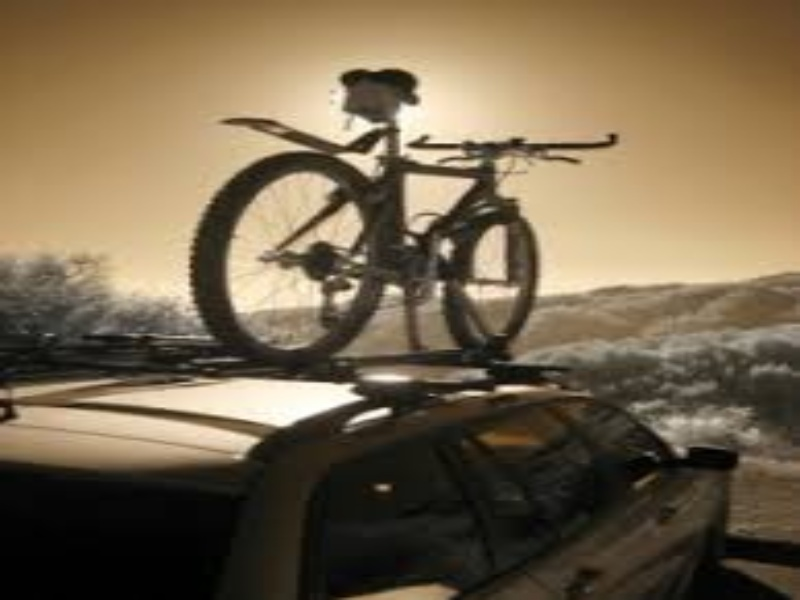bicycle: (164, 57, 632, 375)
